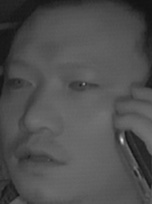eye: (66, 74, 100, 97), (7, 73, 36, 93)
mouth: (14, 141, 67, 175)
